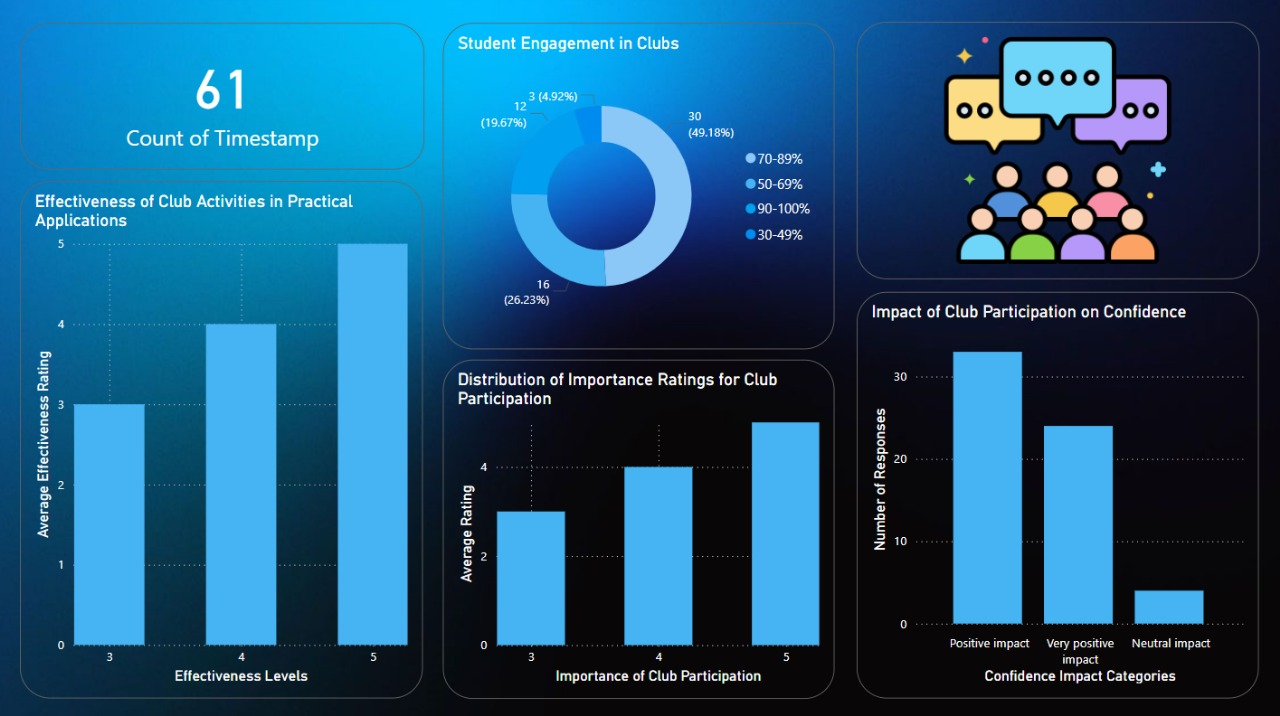

This screenshot's page, from the dashboard's own definition file:
{"tool":"powerbi","page":{"name":"Page 3","canvas":[1280,720],"ordinal":3},"visuals":[{"type":"columnChart","title":"Distribution of Importance Ratings for Club Participation","fields":{"Category":["ClubMembersData.Importance_of_ClubParticipation"],"Y":["Avg(ClubMembersData.Importance_of_ClubParticipation)"]},"box":[44.8,34.8,400.6,324.7],"z":0},{"type":"columnChart","title":"Effectiveness of Club Activities in Practical Applications","fields":{"Category":["ClubMembersData.Effectiveness_of_ClubActivities_in_Application"],"Y":["Avg(ClubMembersData.Effectiveness_of_ClubActivities_in_Application)"]},"box":[456.3,38.6,365.3,659.5],"z":1000},{"type":"lineStackedColumnComboChart","title":"Impact of Club Participation on Confidence","fields":{"Category":["ClubMembersData.Impact_of_ClubParticipation_on_Confidence"],"Y":["CountNonNull(ClubMembersData.Impact_of_ClubParticipation_on_Confidence)"]},"box":[834.7,375.7,400.6,323.4],"z":2000},{"type":"donutChart","title":"Student Engagement in Clubs","fields":{"Category":["ClubMembersData.Percentage_of_StudentEngagement_in_Clubs"],"Y":["CountNonNull(ClubMembersData.Percentage_of_StudentEngagement_in_Clubs)"]},"box":[46,375.7,399.3,323.4],"z":3000}]}

Visuals, with their boxes in screenshot pixels (x1, y1, x2, y2), scaled from the page's 1280x720 canvas onto the 1280x716 screenshot:
"Distribution of Importance Ratings for Club Participation" columnChart: pyautogui.locateOnScreen(45, 35, 445, 358)
"Effectiveness of Club Activities in Practical Applications" columnChart: pyautogui.locateOnScreen(456, 38, 822, 694)
"Impact of Club Participation on Confidence" lineStackedColumnComboChart: pyautogui.locateOnScreen(835, 374, 1235, 695)
"Student Engagement in Clubs" donutChart: pyautogui.locateOnScreen(46, 374, 445, 695)
